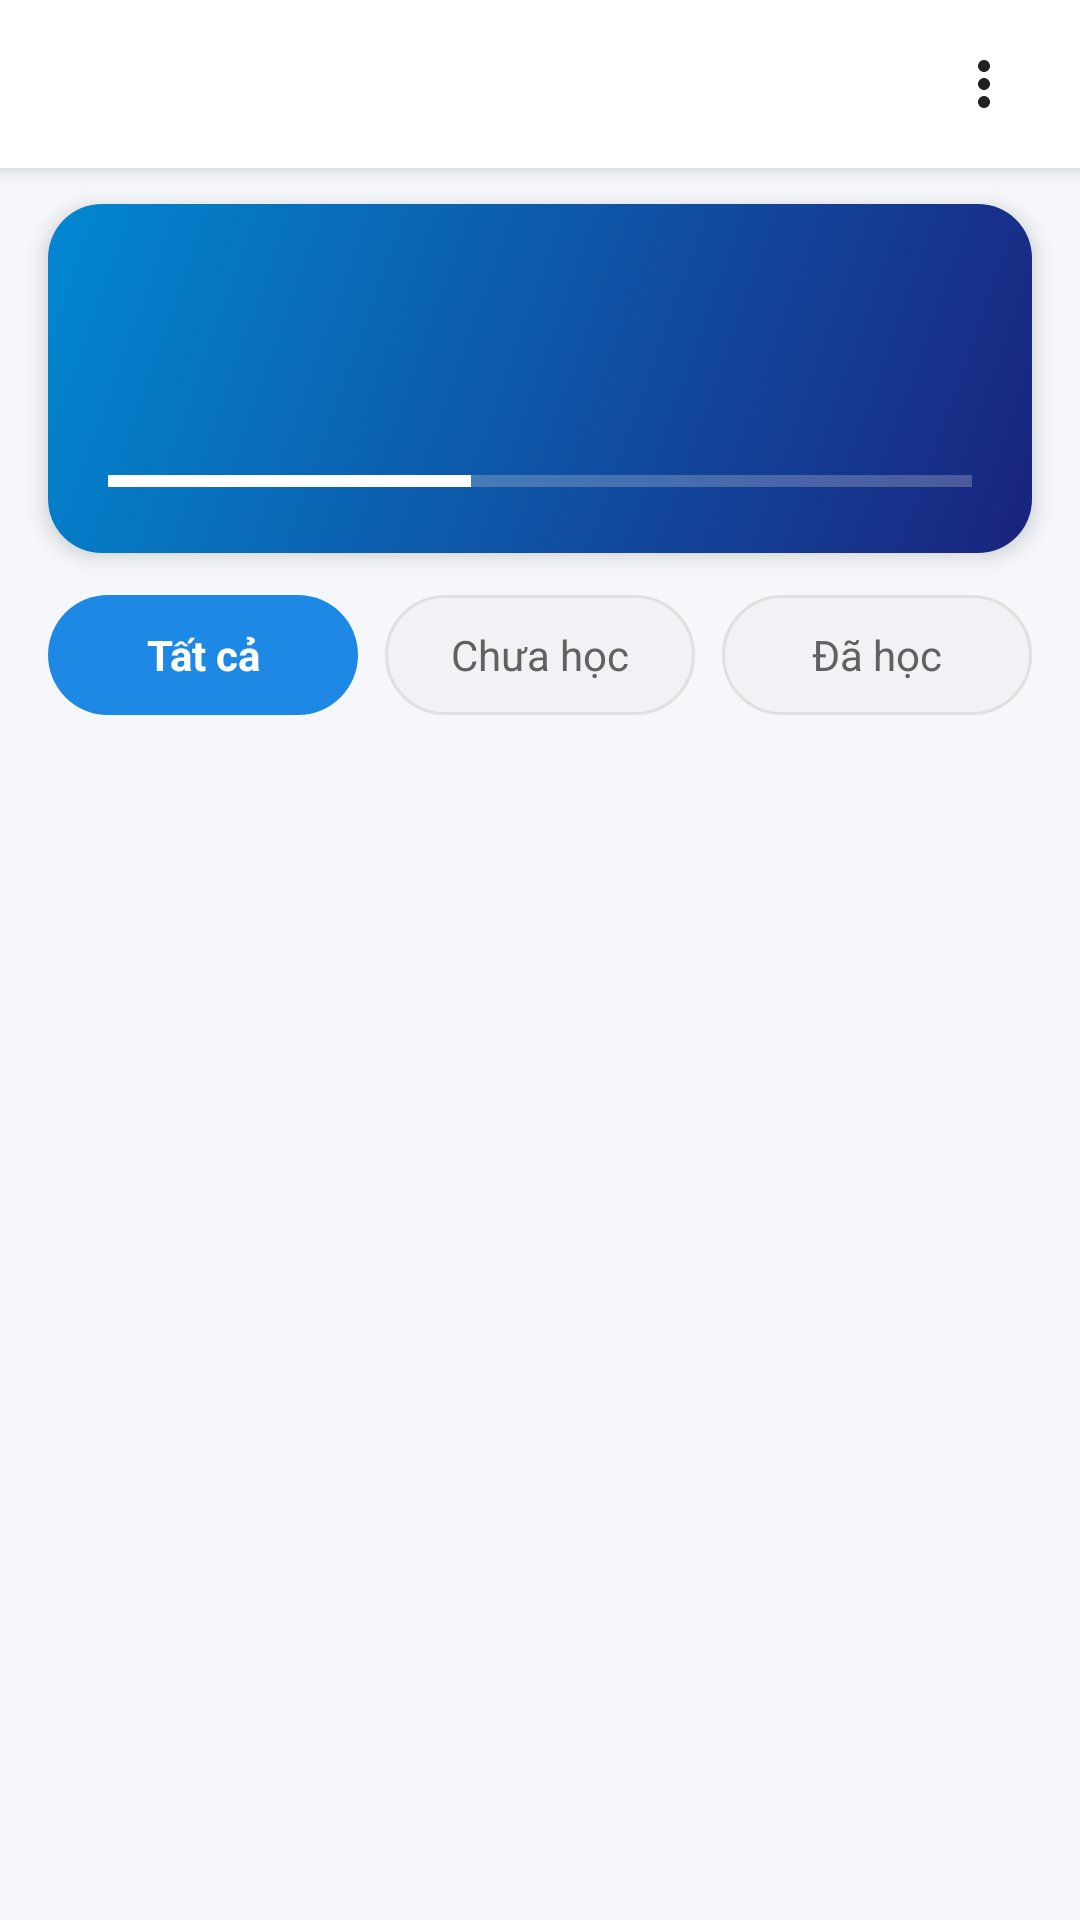

Icon bounding boxes for this 1080x1920 phone screenshot, format (x1=x1, y1=y1, x2=x2, y2=y2):
Tùy chọn khác: (x1=978, y1=60, x2=990, y2=108)
